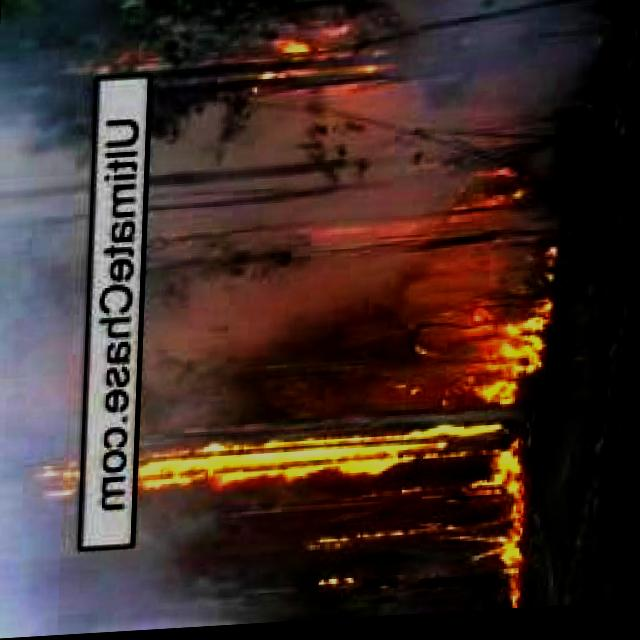Fire: (142, 430, 545, 506), (234, 22, 388, 98), (470, 297, 565, 410), (450, 165, 535, 216), (497, 515, 528, 605)
Smoke: (151, 95, 450, 438), (0, 0, 100, 640), (412, 0, 618, 143)
